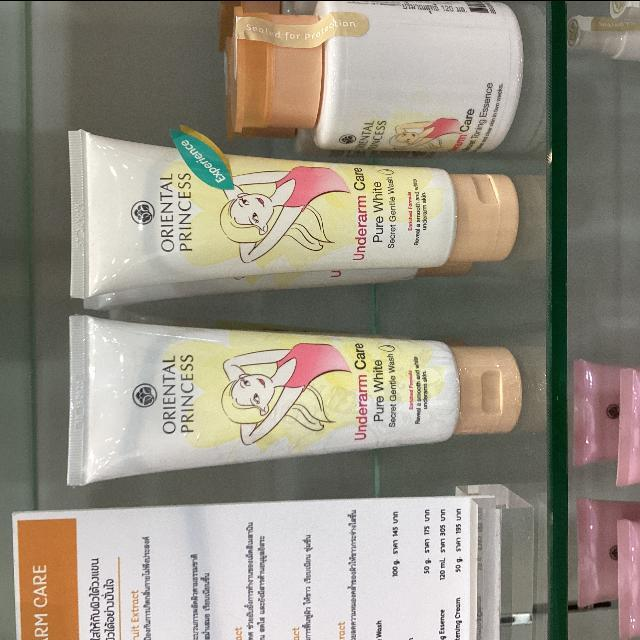Squeeze Tube: (38, 92, 561, 498), (50, 110, 524, 310), (46, 310, 521, 483)
